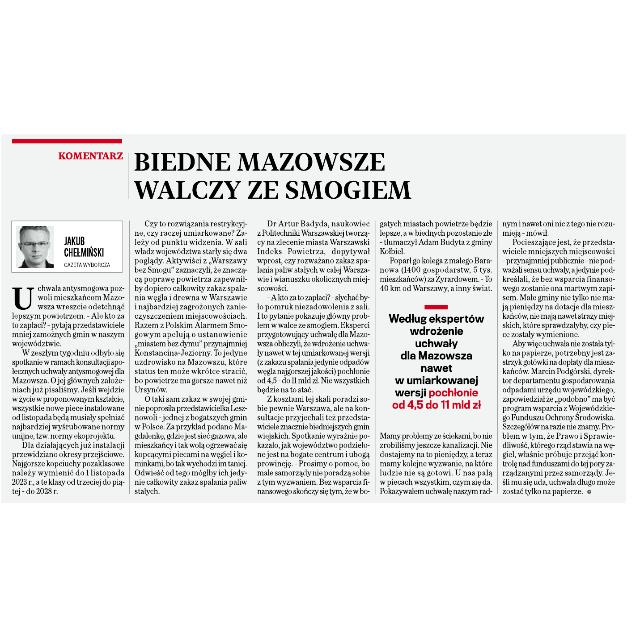author: (63, 234, 107, 258)
body: (500, 217, 618, 498), (255, 217, 371, 498), (133, 217, 250, 495), (8, 280, 128, 498), (386, 298, 488, 412), (379, 214, 495, 294), (378, 426, 494, 496)
title: (51, 148, 415, 202)
